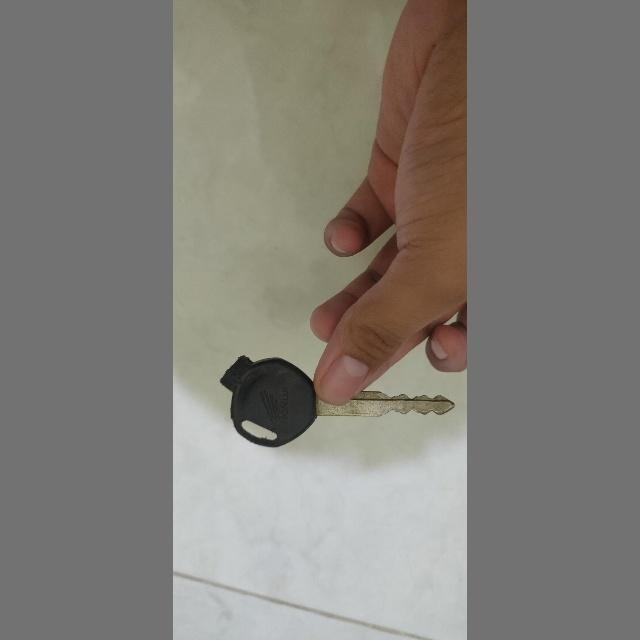Keys: (202, 350, 458, 462)
